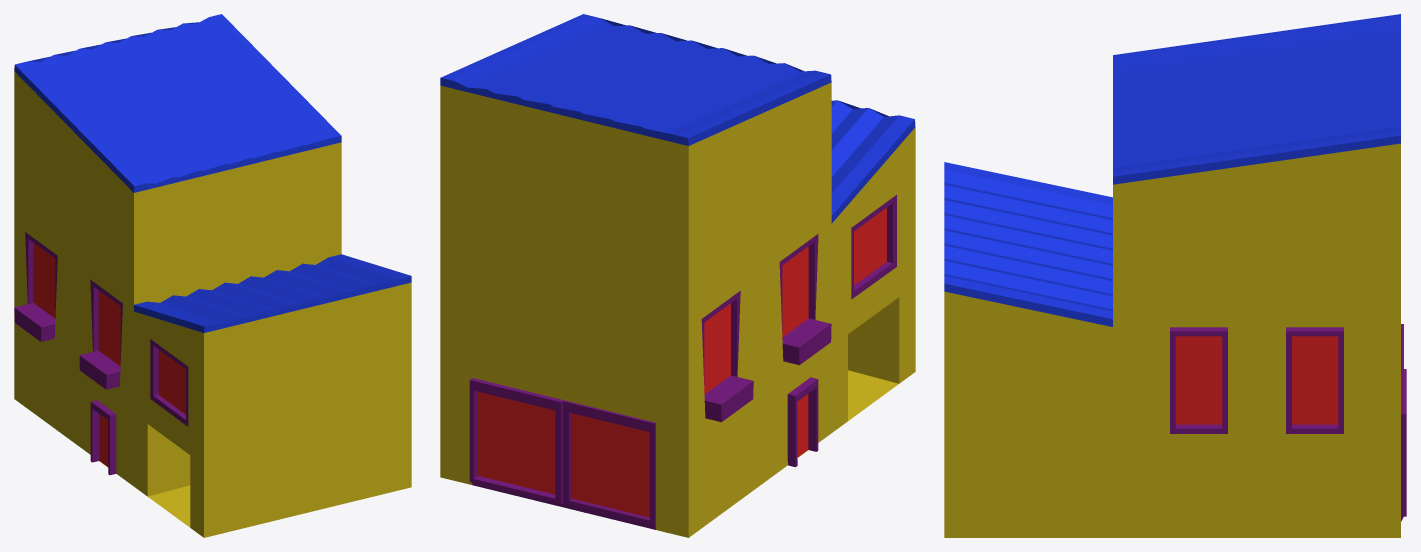
The model's file is mesh_maison_2.fbx.
3 views of the same model, side by side, from view 1: azimuth 30°, elevation 25°; view 2: azimuth 150°, elevation 25°; view 3: azimuth 270°, elevation 25° (orthographic). The views are drawn at different scales.
Parts seen in each view (by area): view 1: maison2; view 2: maison2; view 3: maison2.
Boxes of the visible parts, left/top/right/bottom form: maison2: left=14, top=14, right=411, bottom=537; maison2: left=440, top=14, right=915, bottom=537; maison2: left=944, top=14, right=1406, bottom=537.
Bounding box in the file's own units: 165 × 231 × 241.
